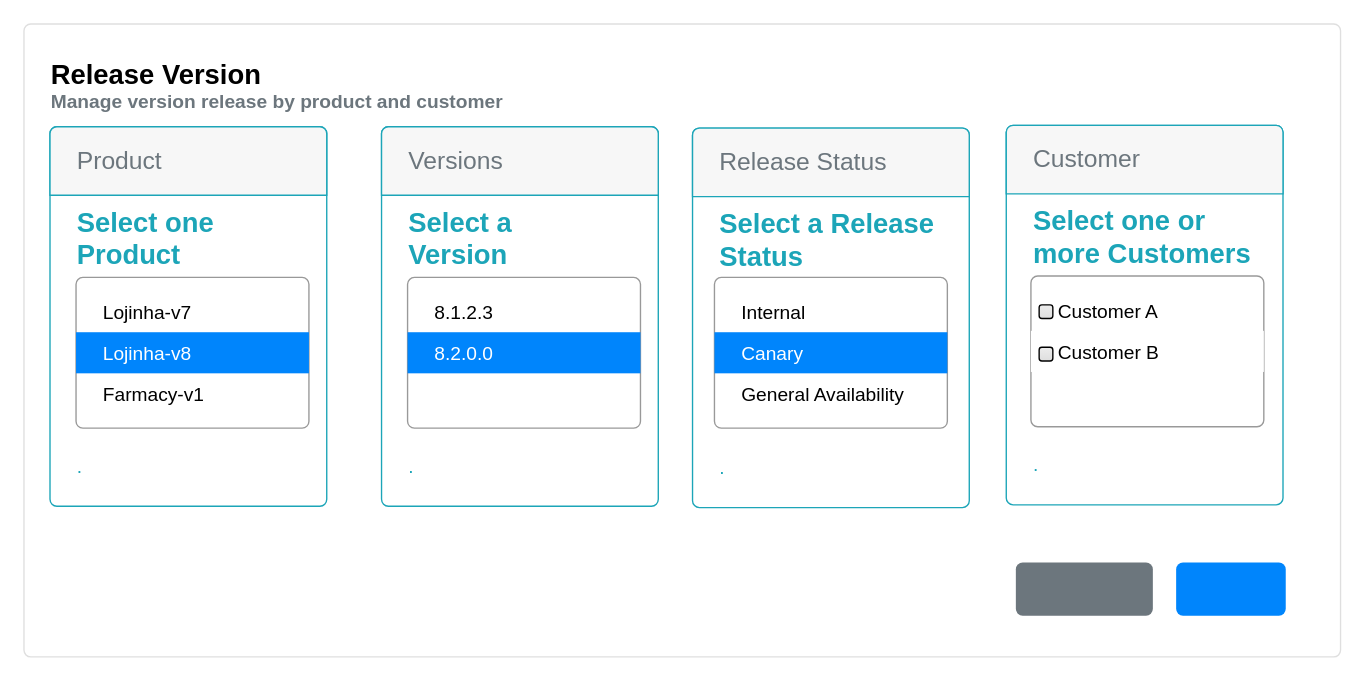
This 1365x681 diagram has some shape labels left out. Each missing label, with the centre of its shape:
"Cancel" belongs at point (1083, 588).
"Release" belongs at point (1230, 588).
